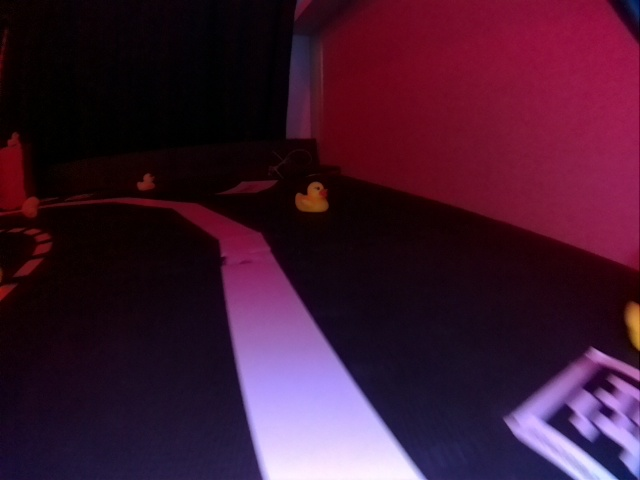Duckie: (295, 182, 329, 213), (20, 196, 40, 218), (137, 173, 155, 192)
QR code: (515, 351, 638, 478)
